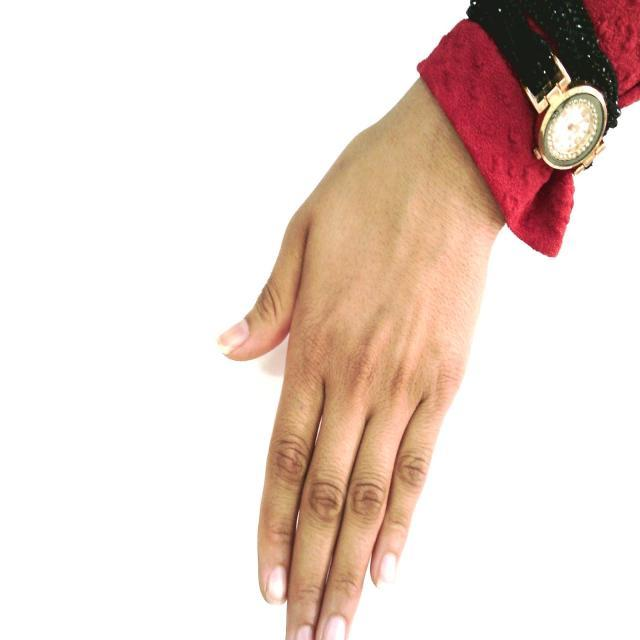Fingernail: (218, 321, 248, 351), (266, 568, 286, 603), (377, 552, 396, 586), (324, 616, 346, 639), (295, 625, 313, 639)
